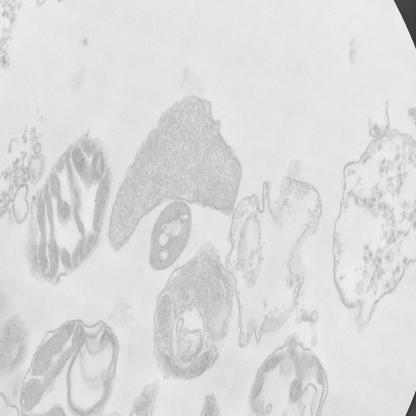mitochondria: (25, 130, 111, 286)
